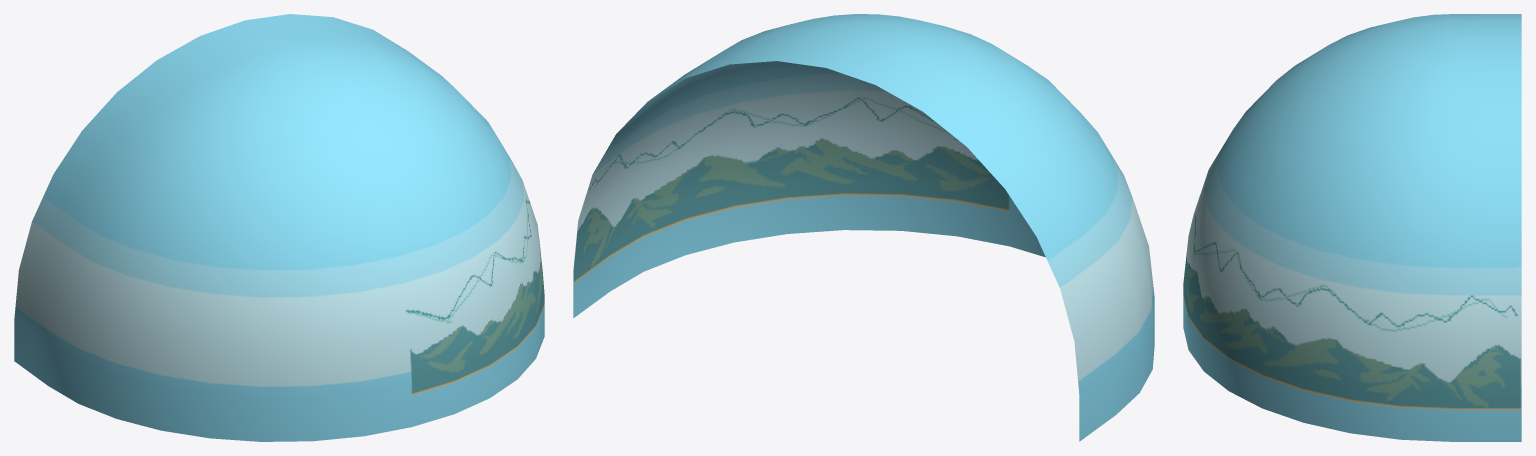
File: SkyBox.fbx
The picture shows the model from 3 angles, left to right: view 1: azimuth 30°, elevation 25°; view 2: azimuth 150°, elevation 25°; view 3: azimuth 270°, elevation 25°; orthographic projection. The views are drawn at different scales.
Visible parts, largest first — view 1: Sphere; view 2: Sphere; view 3: Sphere.
Part boxes in pixels (box(x1,y1,x2,y2)): Sphere: box(14, 14, 544, 441); Sphere: box(573, 14, 1154, 441); Sphere: box(1183, 14, 1521, 441).
Bounding box in the file's own units: 23992 × 14151 × 15026.
Materials: 1 (1 with a texture image).
